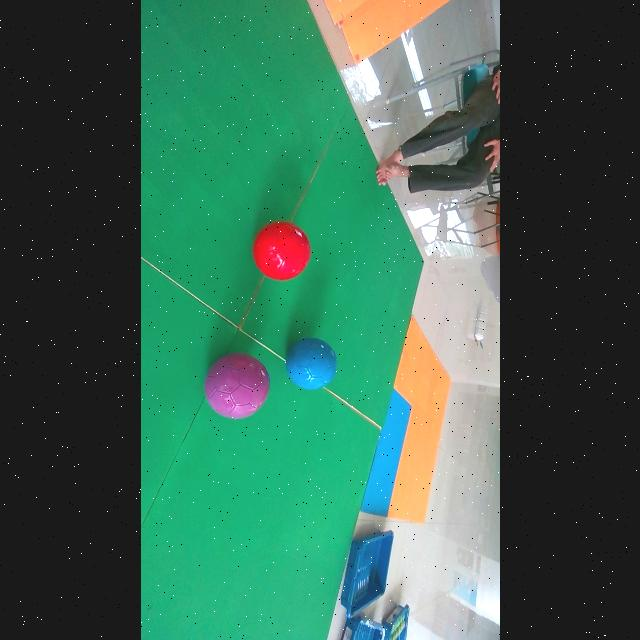B: (286, 338, 337, 389)
P: (204, 353, 269, 419)
R: (254, 221, 310, 281)
